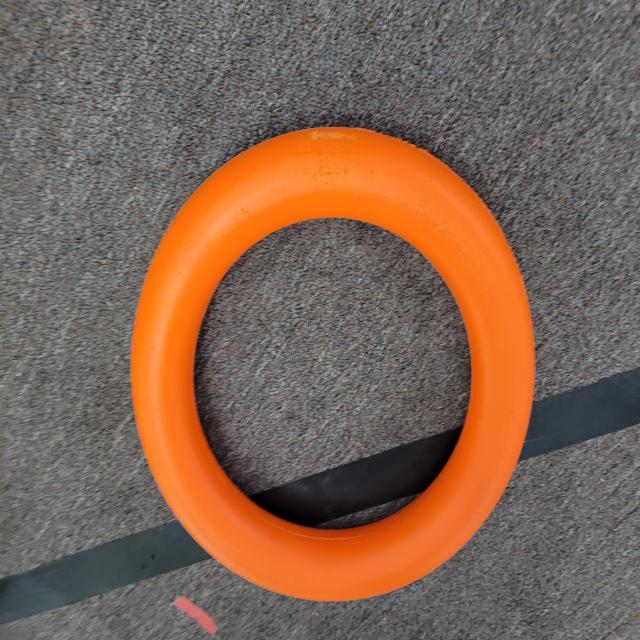note: (115, 113, 553, 609)
